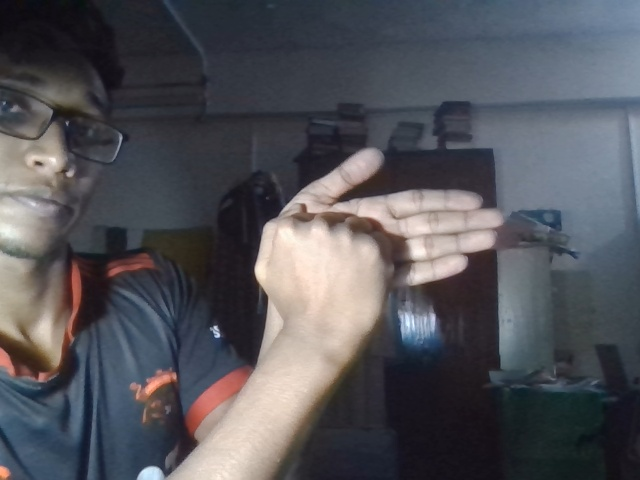b: (241, 145, 512, 328)
